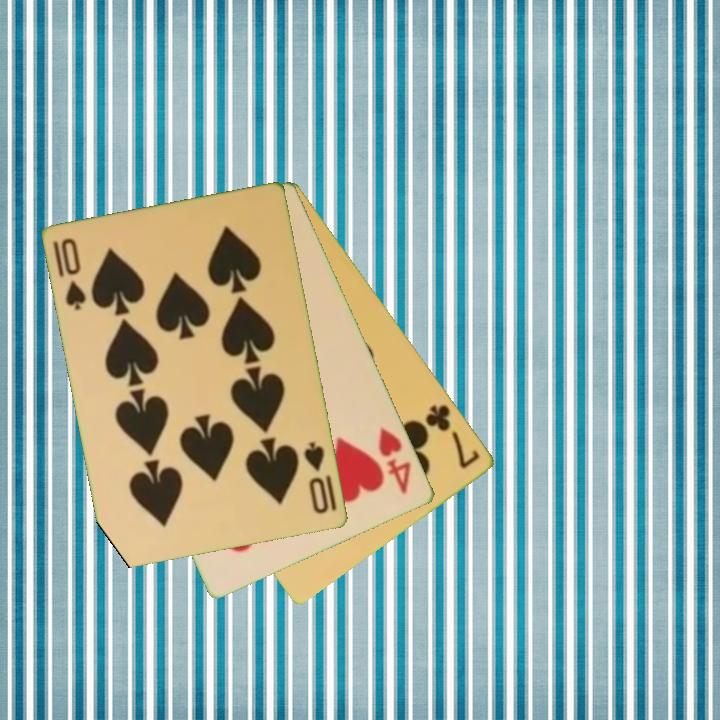10s: (50, 235, 90, 314), (301, 439, 332, 517)
4h: (375, 424, 415, 498)
7c: (422, 401, 484, 472)
